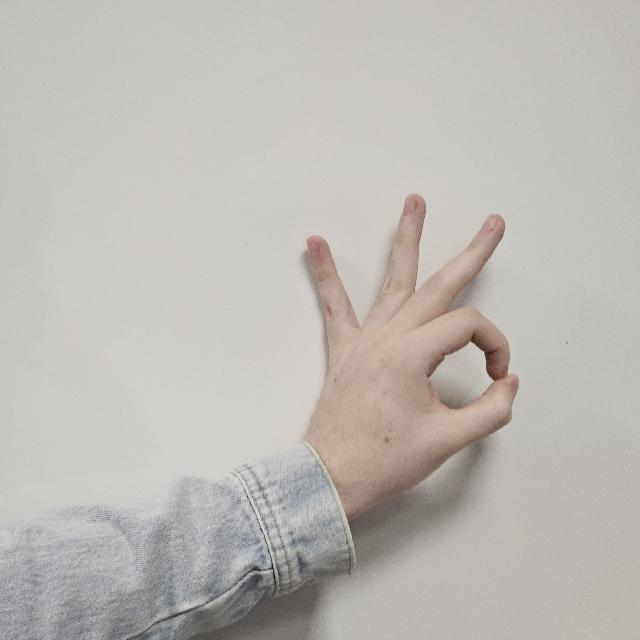Bolinha: (288, 181, 530, 509)
